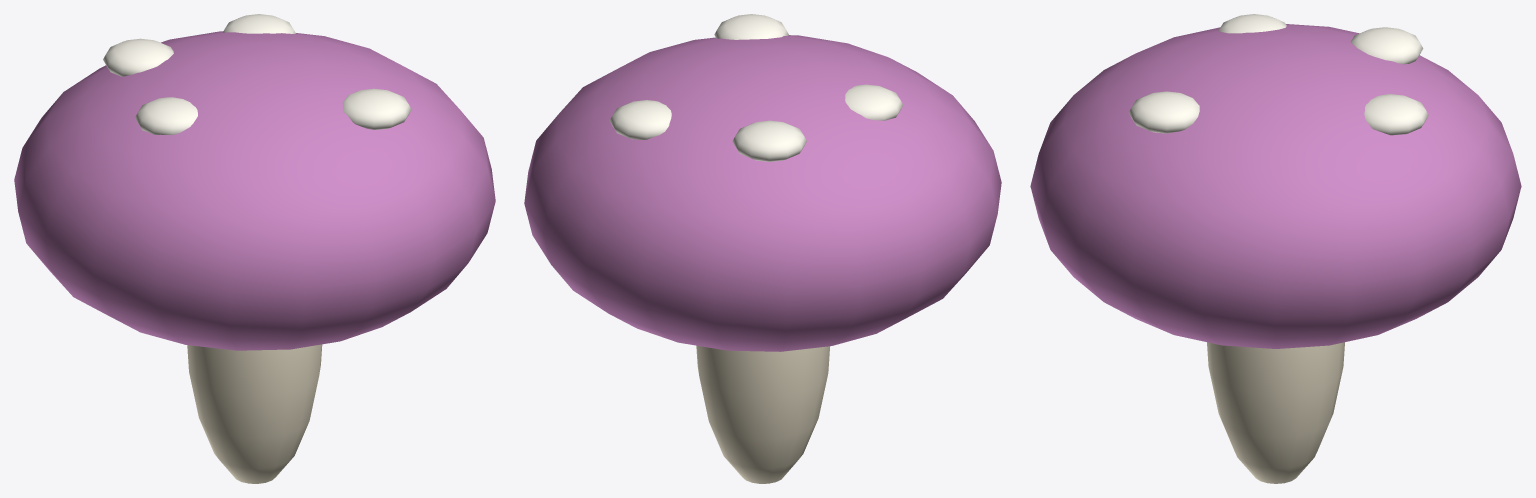
Rendered from mushroom.glb.
3 renders of one model, left to right at view 1: azimuth 30°, elevation 25°; view 2: azimuth 150°, elevation 25°; view 3: azimuth 270°, elevation 25°, orthographic. The views are drawn at different scales.
Visible parts, largest first — view 1: mushroom; view 2: mushroom; view 3: mushroom.
Part boxes in pixels (x1,y1,x2,y2): mushroom: (14,14,495,483); mushroom: (524,14,1001,483); mushroom: (1030,14,1521,483).
Size of the model in its own units: 0.45 by 0.428 by 0.45.
